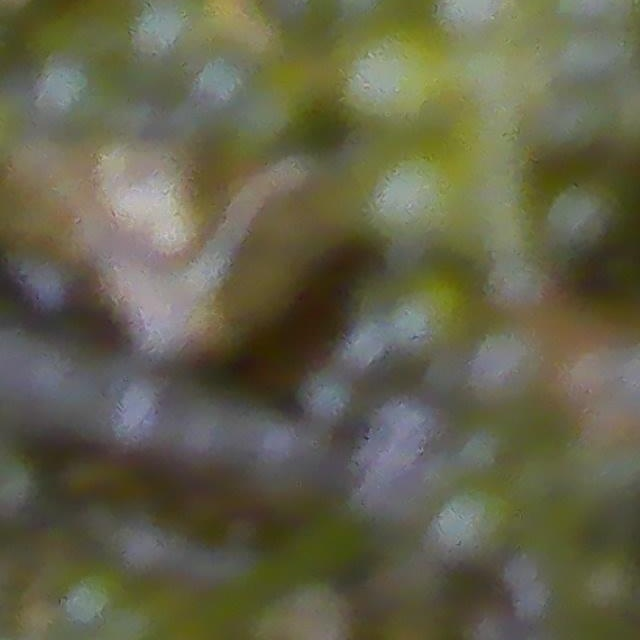SeaGrape: (329, 11, 455, 133), (432, 479, 519, 567), (545, 174, 626, 253)
